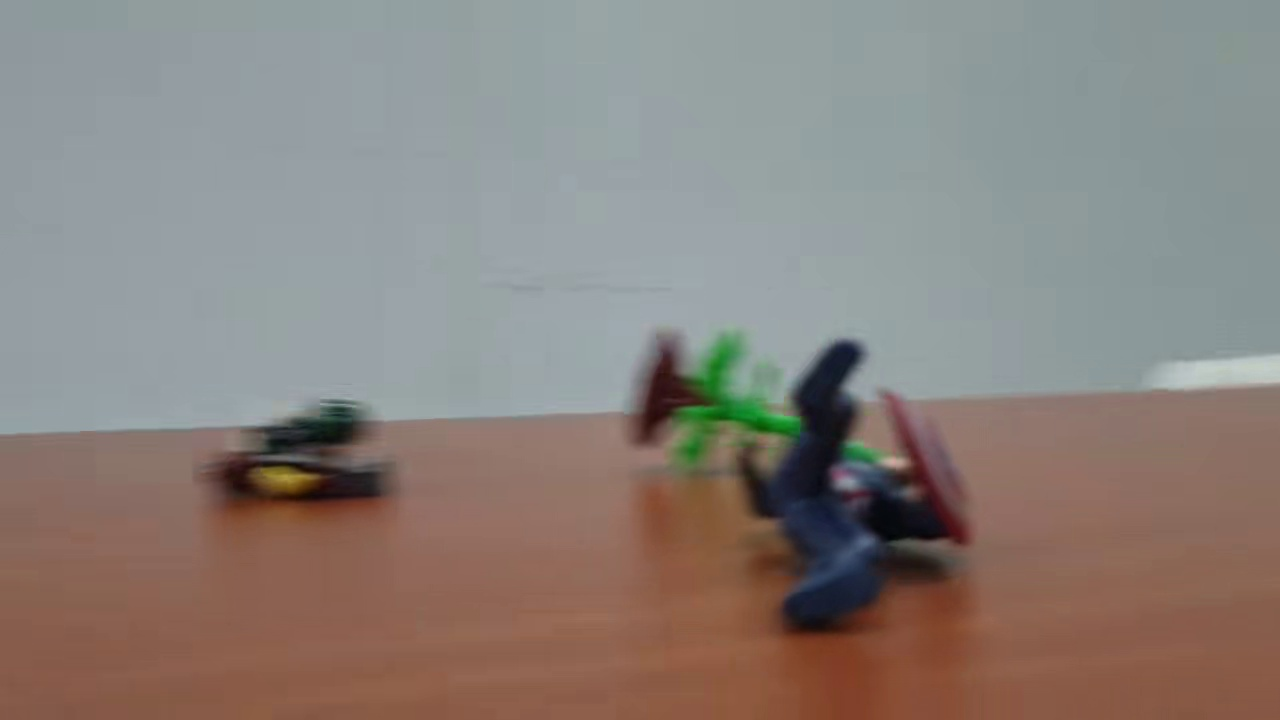people: (733, 343, 979, 633), (195, 445, 398, 504), (225, 391, 374, 462)
tree: (626, 324, 889, 475)
